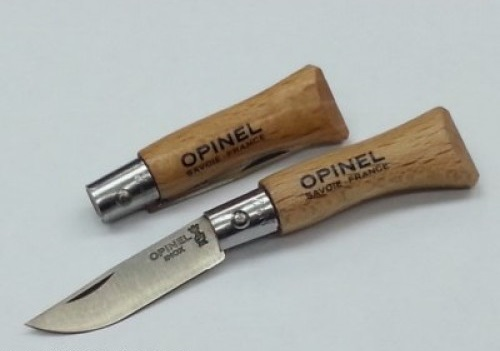knife: (16, 208, 229, 339)
